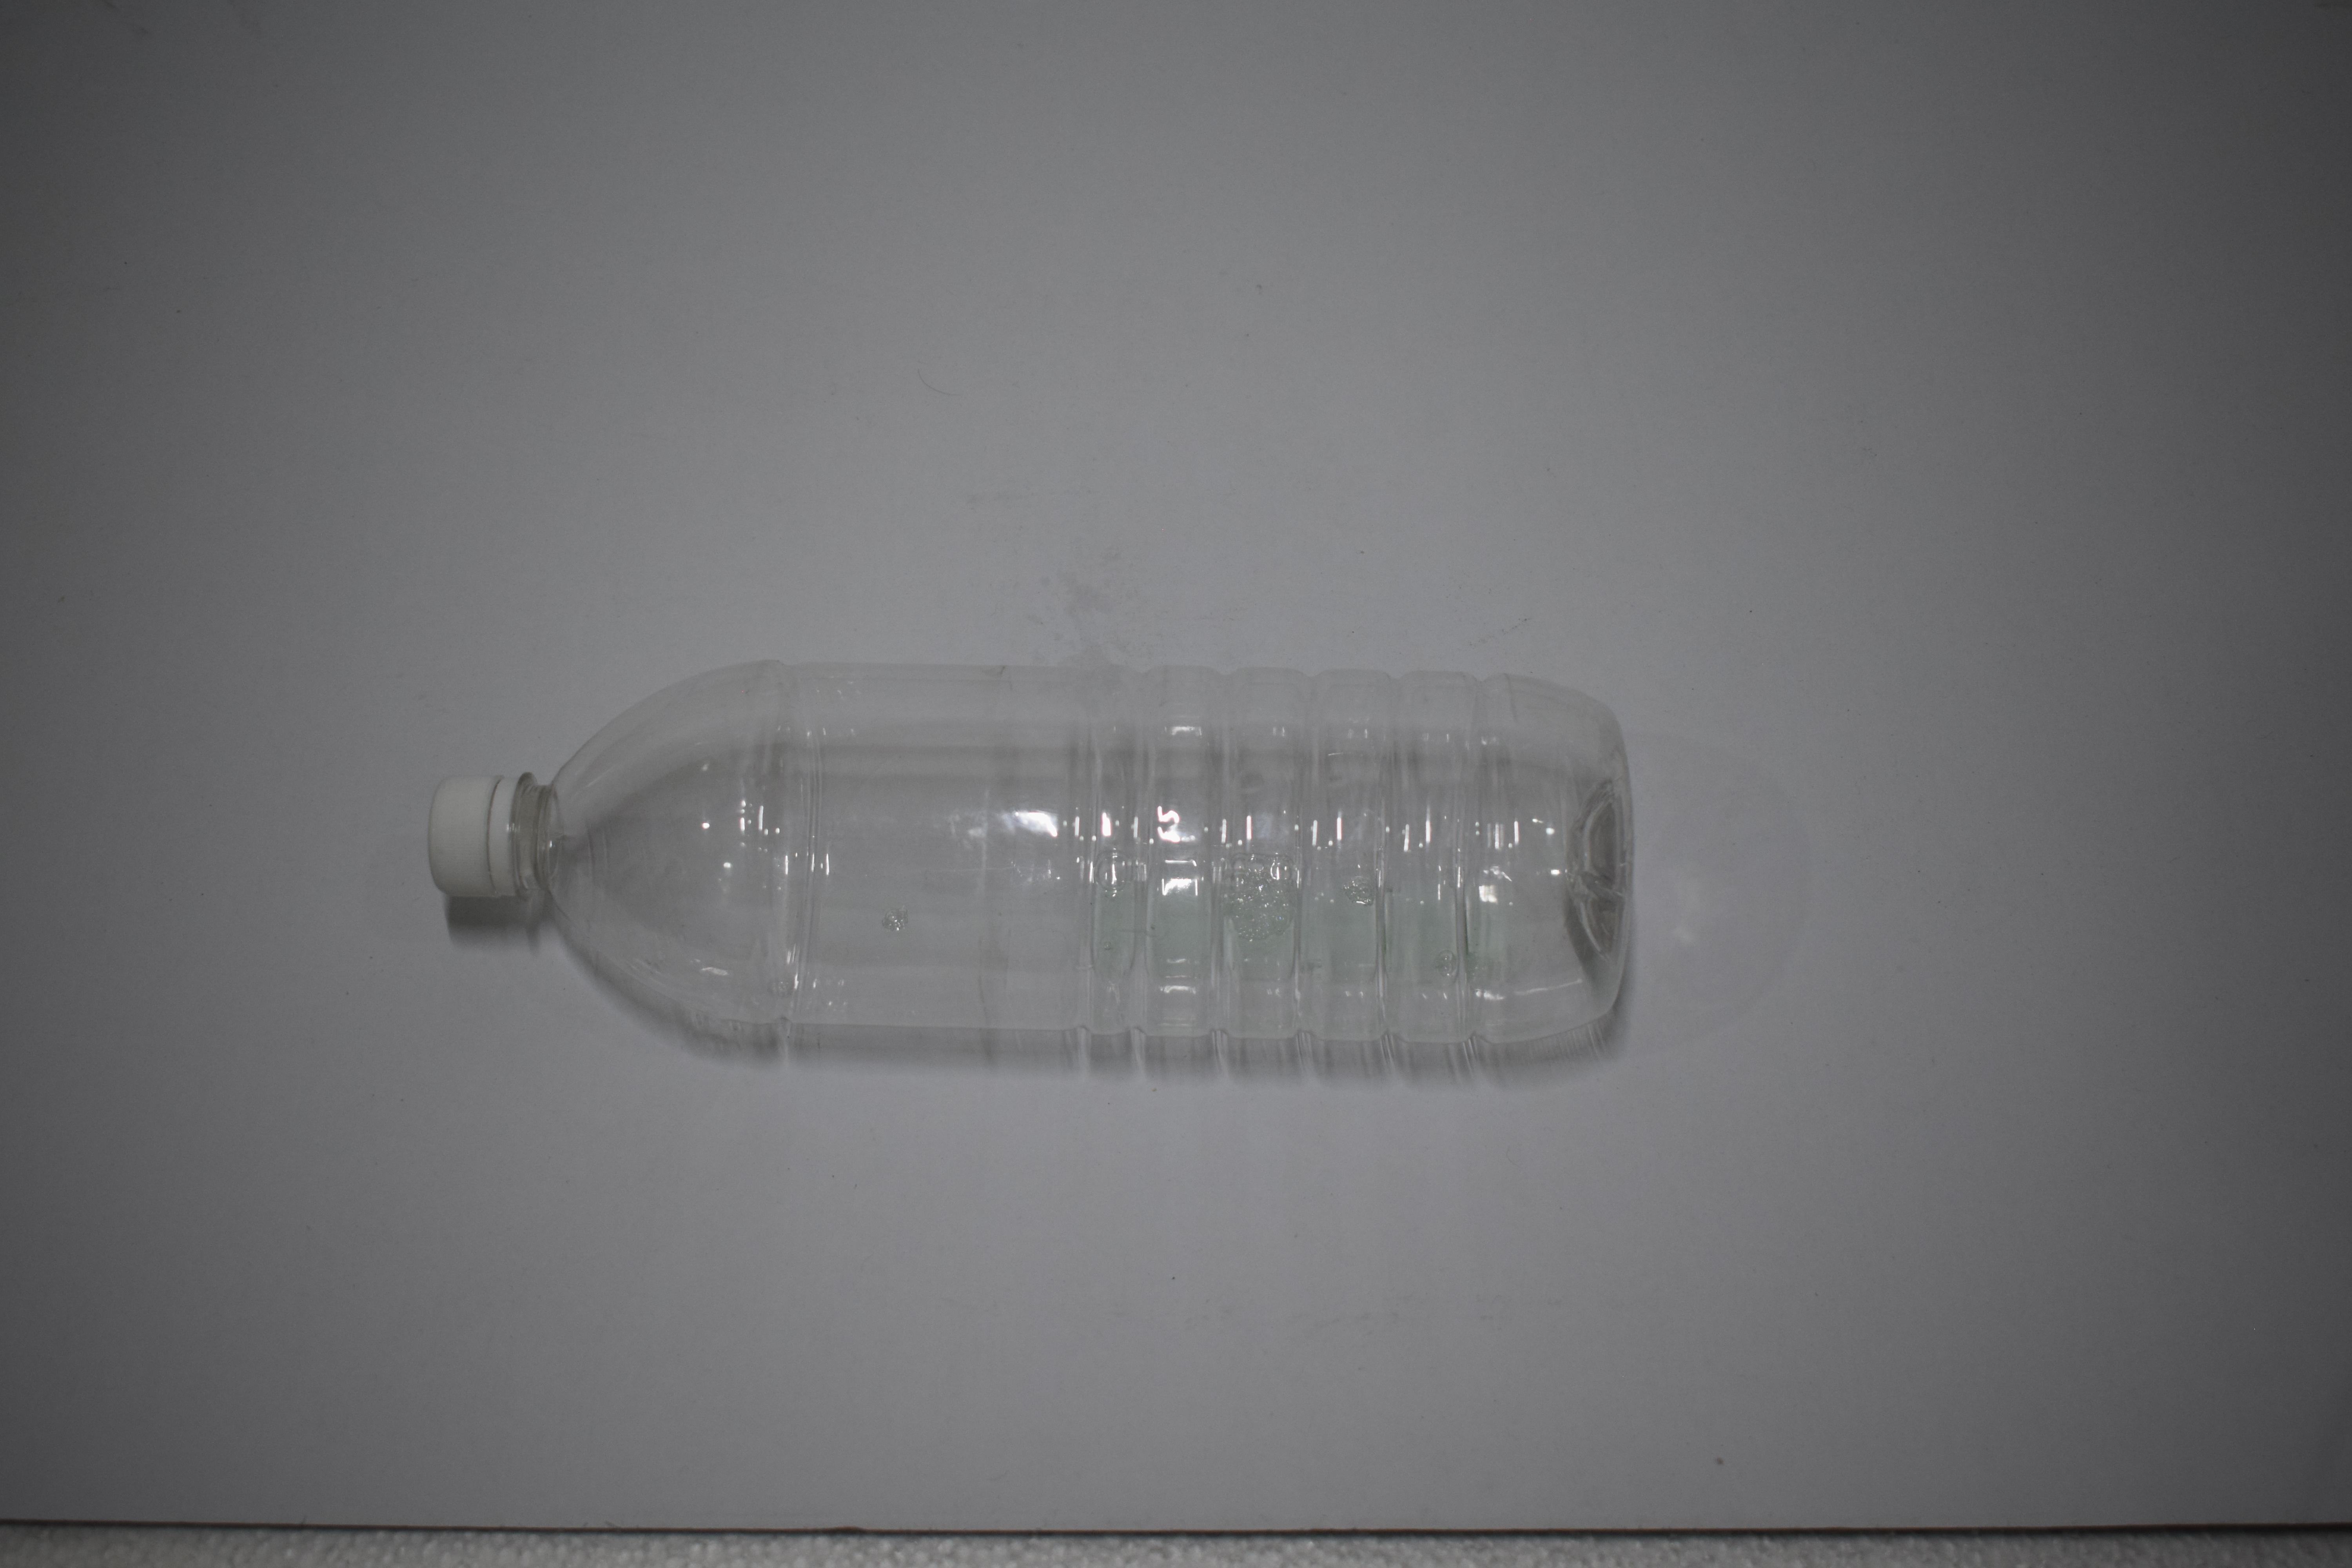bottle: (1003, 0, 1059, 285)
